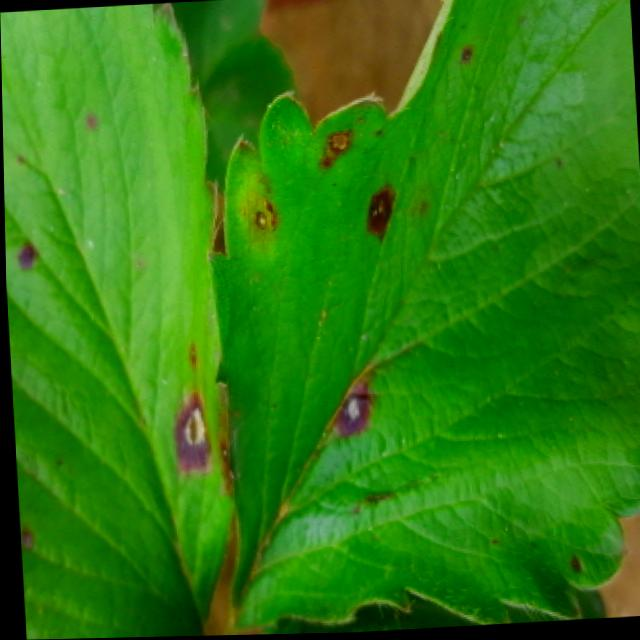Leaf Spot: (203, 0, 640, 635), (0, 2, 230, 640)
